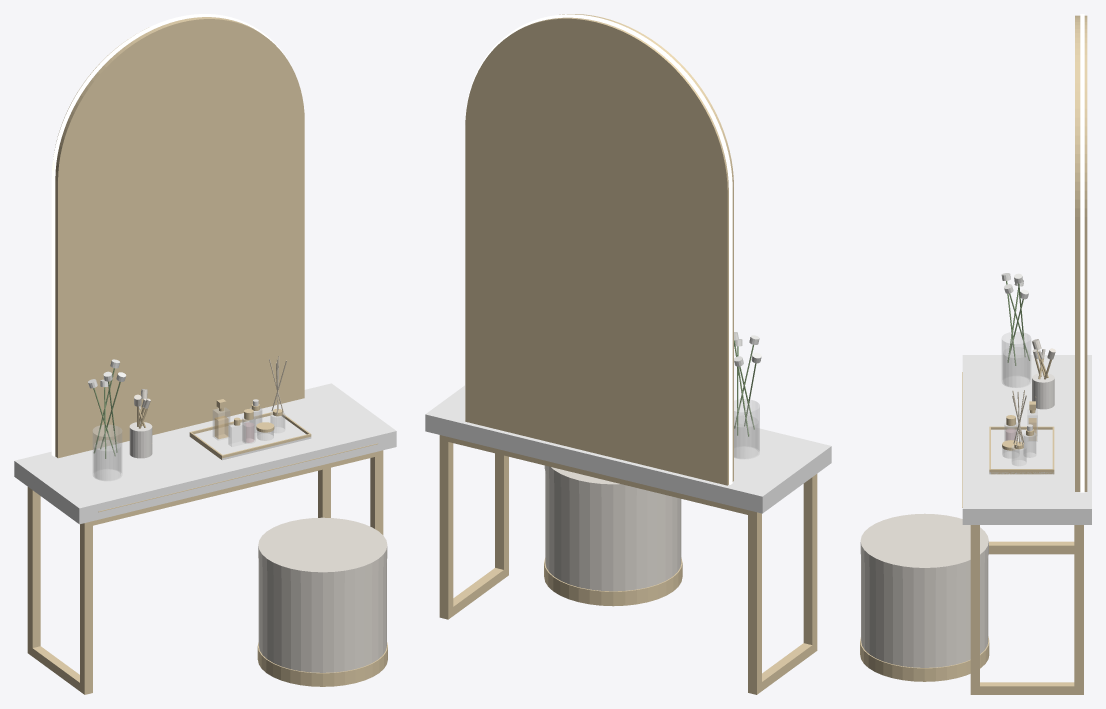
The model's file is seren_vanity.glb.
3 renders of one model, left to right at view 1: azimuth 30°, elevation 25°; view 2: azimuth 150°, elevation 25°; view 3: azimuth 270°, elevation 25°, orthographic. The views are drawn at different scales.
Parts seen in each view (by area): view 1: Mirror_Frame, Vanity_Marble_Top, Stool_Upholstered_Body, Stool_Top_Padded_Cushion, Mirror_LED_Strip, Vanity_Cosmetic_Tray_Base, Vanity_Leg_Left_Back, Vanity_Leg_Left_Front, Stool_Brass_Base_Ring, Vase_Glass_Body, Vanity_Top_Rail_Front, Vanity_Leg_Right_Front (+4 smaller); view 2: Mirror_Frame, Vanity_Marble_Top, Stool_Upholstered_Body, Mirror_LED_Strip, Vanity_Leg_Right_Back, Vanity_Leg_Left_Back, Vanity_Leg_Left_Front, Stool_Brass_Base_Ring, Vanity_Top_Rail_Back, Vanity_Leg_Right_Front, Stool_Top_Padded_Cushion, Vase_Glass_Body (+3 smaller); view 3: Vanity_Marble_Top, Stool_Upholstered_Body, Stool_Top_Padded_Cushion, Mirror_Frame, Mirror_LED_Strip, Vanity_Cosmetic_Tray_Base, Stool_Brass_Base_Ring, Vanity_Leg_Right_Back, Vanity_Leg_Right_Front, Vase_Glass_Body, Vanity_Leg_Right_Bottom, Vanity_Leg_Left_Bottom (+2 smaller).
Boxes of the visible parts, x1,y1,x2,y2 form: Mirror_Frame: (54,17,304,458); Vanity_Marble_Top: (14,383,396,524); Stool_Upholstered_Body: (258,560,386,672); Stool_Top_Padded_Cushion: (258,517,387,584); Mirror_LED_Strip: (51,14,290,456); Vanity_Cosmetic_Tray_Base: (190,415,311,460); Vanity_Leg_Left_Back: (27,487,40,655); Vanity_Leg_Left_Front: (80,521,92,694); Stool_Brass_Base_Ring: (257,642,387,686); Vase_Glass_Body: (93,425,121,480); Vanity_Top_Rail_Front: (93,452,374,525); Vanity_Leg_Right_Front: (370,450,383,534); Mirror_Frame: (465,14,733,485); Vanity_Marble_Top: (425,385,831,513); Stool_Upholstered_Body: (545,472,681,591); Mirror_LED_Strip: (465,14,732,484); Vanity_Leg_Right_Back: (439,435,453,619); Vanity_Leg_Left_Back: (748,511,761,694); Vanity_Leg_Left_Front: (803,474,817,653); Stool_Brass_Base_Ring: (544,557,682,606); Vanity_Top_Rail_Back: (446,437,751,515); Vanity_Leg_Right_Front: (495,453,508,578); Stool_Top_Padded_Cushion: (544,465,652,497); Vase_Glass_Body: (734,399,759,458); Vanity_Marble_Top: (962,355,1091,524); Stool_Upholstered_Body: (861,556,988,667); Stool_Top_Padded_Cushion: (860,513,988,580); Mirror_Frame: (1075,15,1087,491); Mirror_LED_Strip: (1080,14,1084,492); Vanity_Cosmetic_Tray_Base: (989,429,1053,474); Stool_Brass_Base_Ring: (860,636,989,681); Vanity_Leg_Right_Back: (1074,525,1083,694); Vanity_Leg_Right_Front: (970,525,979,686); Vase_Glass_Body: (1002,332,1030,387); Vanity_Leg_Right_Bottom: (970,682,1083,694); Vanity_Leg_Left_Bottom: (989,541,1074,554).
Bounding box in the file's own units: 1.35 × 2.44 × 0.86.
